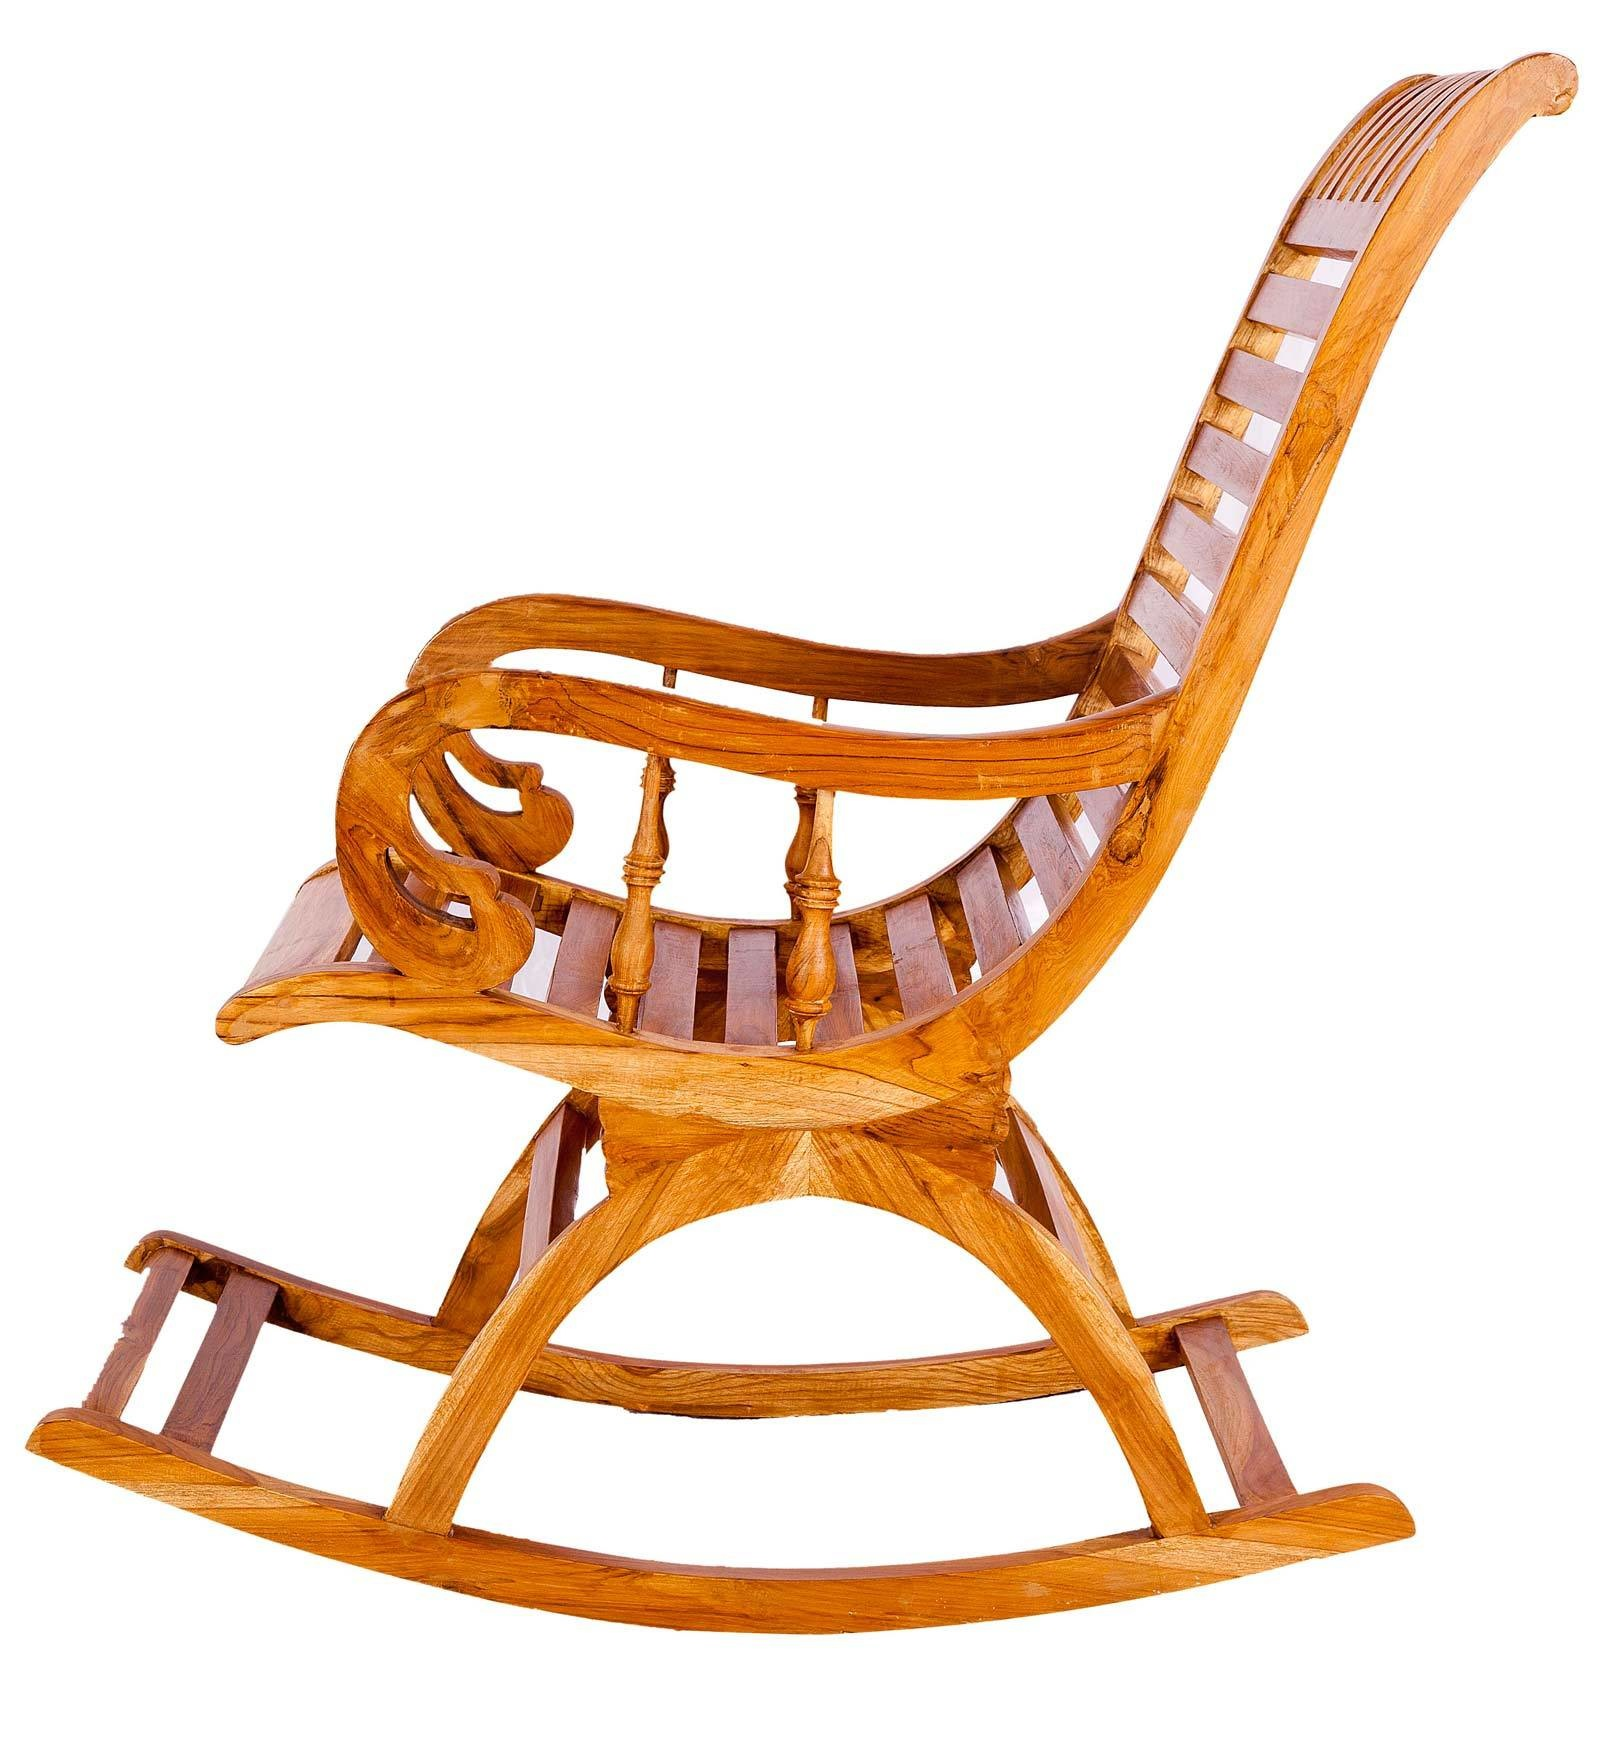Teak Wood Rocking Chair in Light Teak Finish by Karigar: (41, 34, 1592, 1673)
